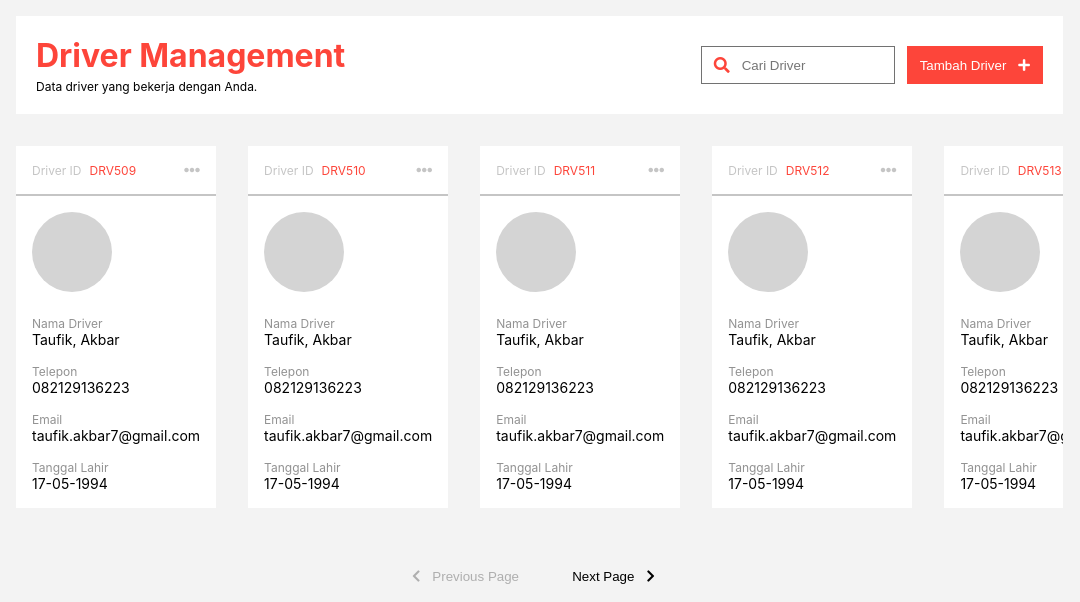
it: Component:UserDisplay › Should let user go next page and back to previous page
Click the button with test id "next-button".
click(620, 576)  # box x1=540 y1=568 x2=700 y2=585
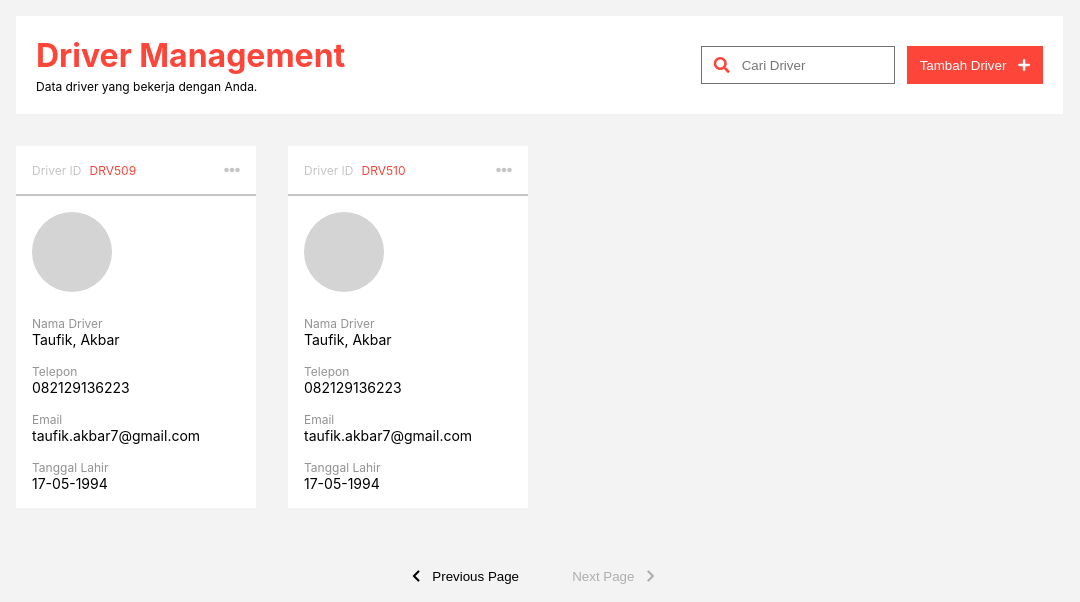
Click the button with test id "prev-button".
click(460, 576)  # box x1=380 y1=568 x2=540 y2=585
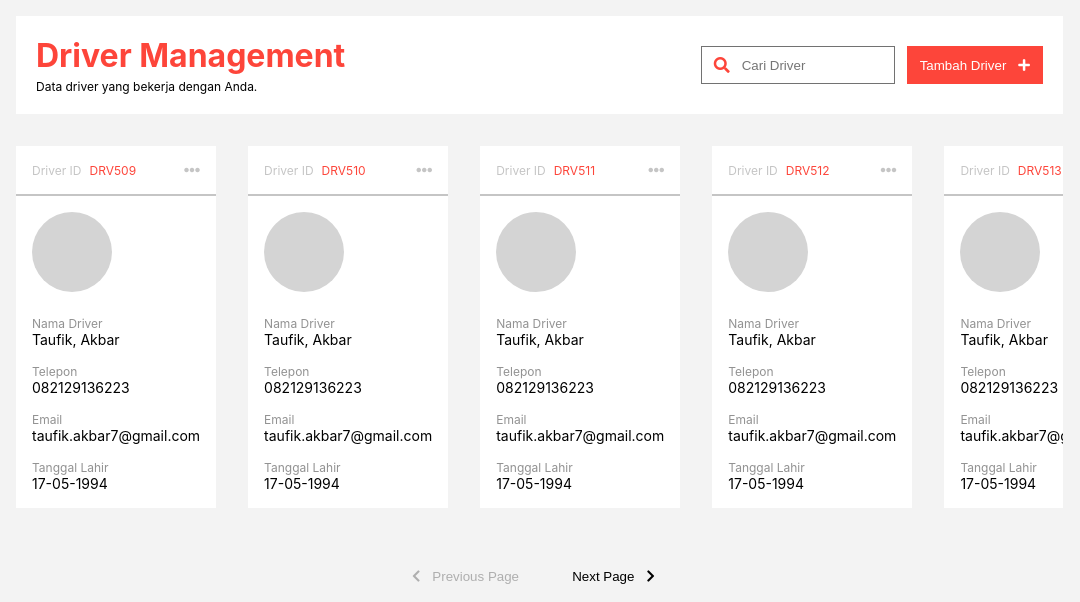
Now the button with test id "prev-button" is disabled, box x1=380 y1=568 x2=540 y2=585
Now the button with test id "next-button" is enabled, box x1=540 y1=568 x2=700 y2=585
